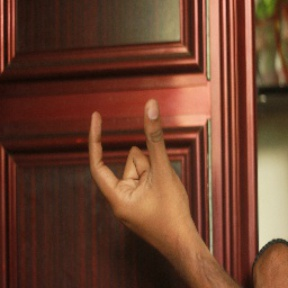U: (83, 93, 178, 228)
